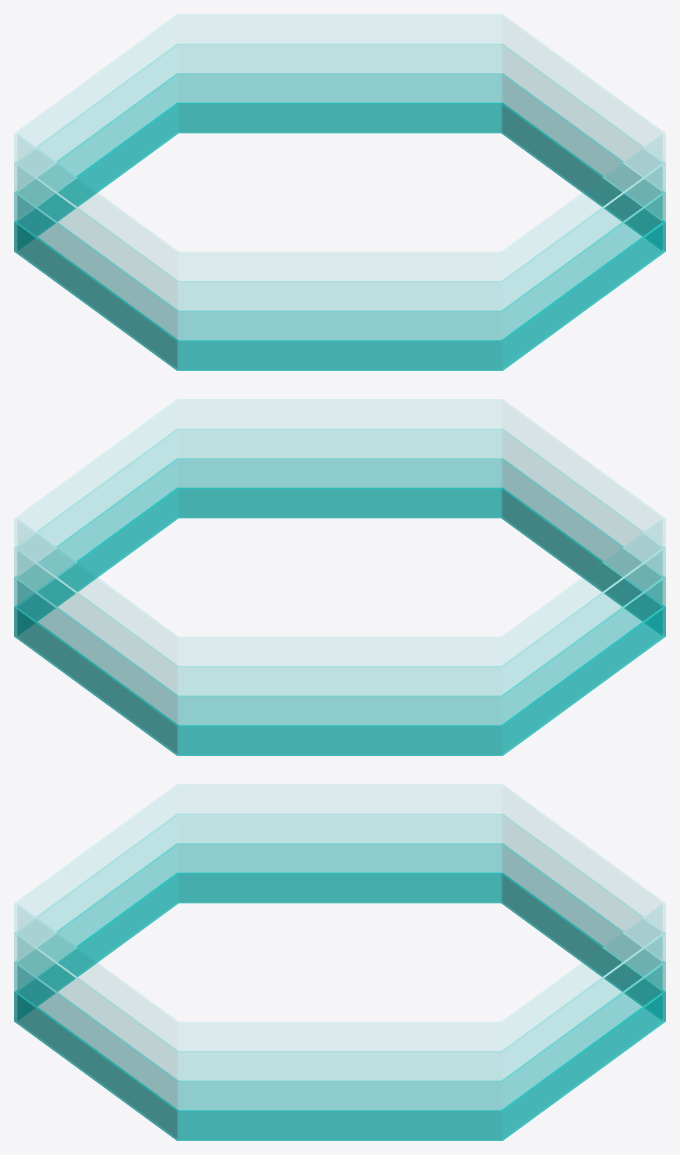
The model's file is blue_hex_gradient.fbx.
The picture shows the model from 3 angles, top to bottom: view 1: azimuth 30°, elevation 25°; view 2: azimuth 150°, elevation 25°; view 3: azimuth 270°, elevation 25°; orthographic projection.
Visible parts, largest first — view 1: Cylinder, Cylinder.001, Cylinder.002, Cylinder.003; view 2: Cylinder, Cylinder.001, Cylinder.002, Cylinder.003; view 3: Cylinder, Cylinder.001, Cylinder.002, Cylinder.003.
Boxes of the visible parts, x1,y1,x2,y2 form: Cylinder: (14,102,665,370); Cylinder.001: (14,73,665,340); Cylinder.002: (14,44,665,311); Cylinder.003: (17,134,662,161); Cylinder: (14,487,665,755); Cylinder.001: (14,458,665,725); Cylinder.002: (14,429,665,696); Cylinder.003: (17,519,662,546); Cylinder: (14,872,665,1140); Cylinder.001: (14,843,665,1110); Cylinder.002: (14,814,665,1081); Cylinder.003: (17,904,662,931).
Bounding box in the file's own units: 173 × 40 × 200.
